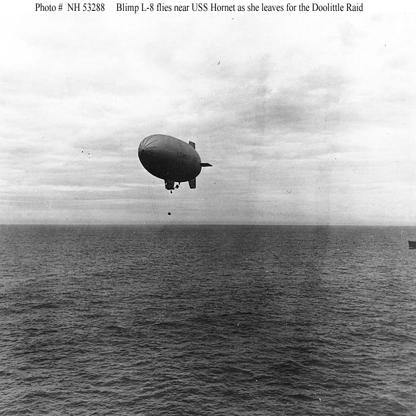Airship: (137, 134, 215, 192)
